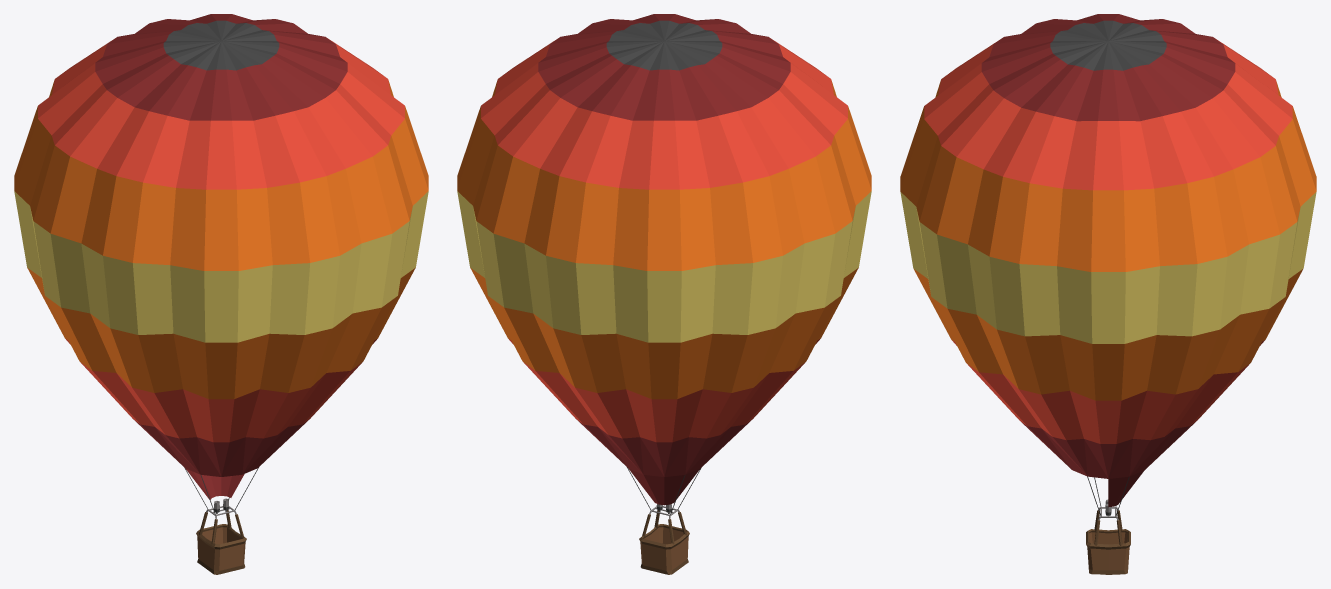
File: balloon.fbx
3 views of the same model, side by side, from view 1: azimuth 30°, elevation 25°; view 2: azimuth 150°, elevation 25°; view 3: azimuth 270°, elevation 25° (orthographic).
Parts seen in each view (by area): view 1: balloon; view 2: balloon; view 3: balloon.
Boxes of the visible parts, box(x1,y1,x2,y2) form: balloon: box(14, 14, 428, 574); balloon: box(457, 14, 871, 574); balloon: box(900, 14, 1316, 574).
Bounding box in the file's own units: 16.03 × 22.43 × 16.03.
